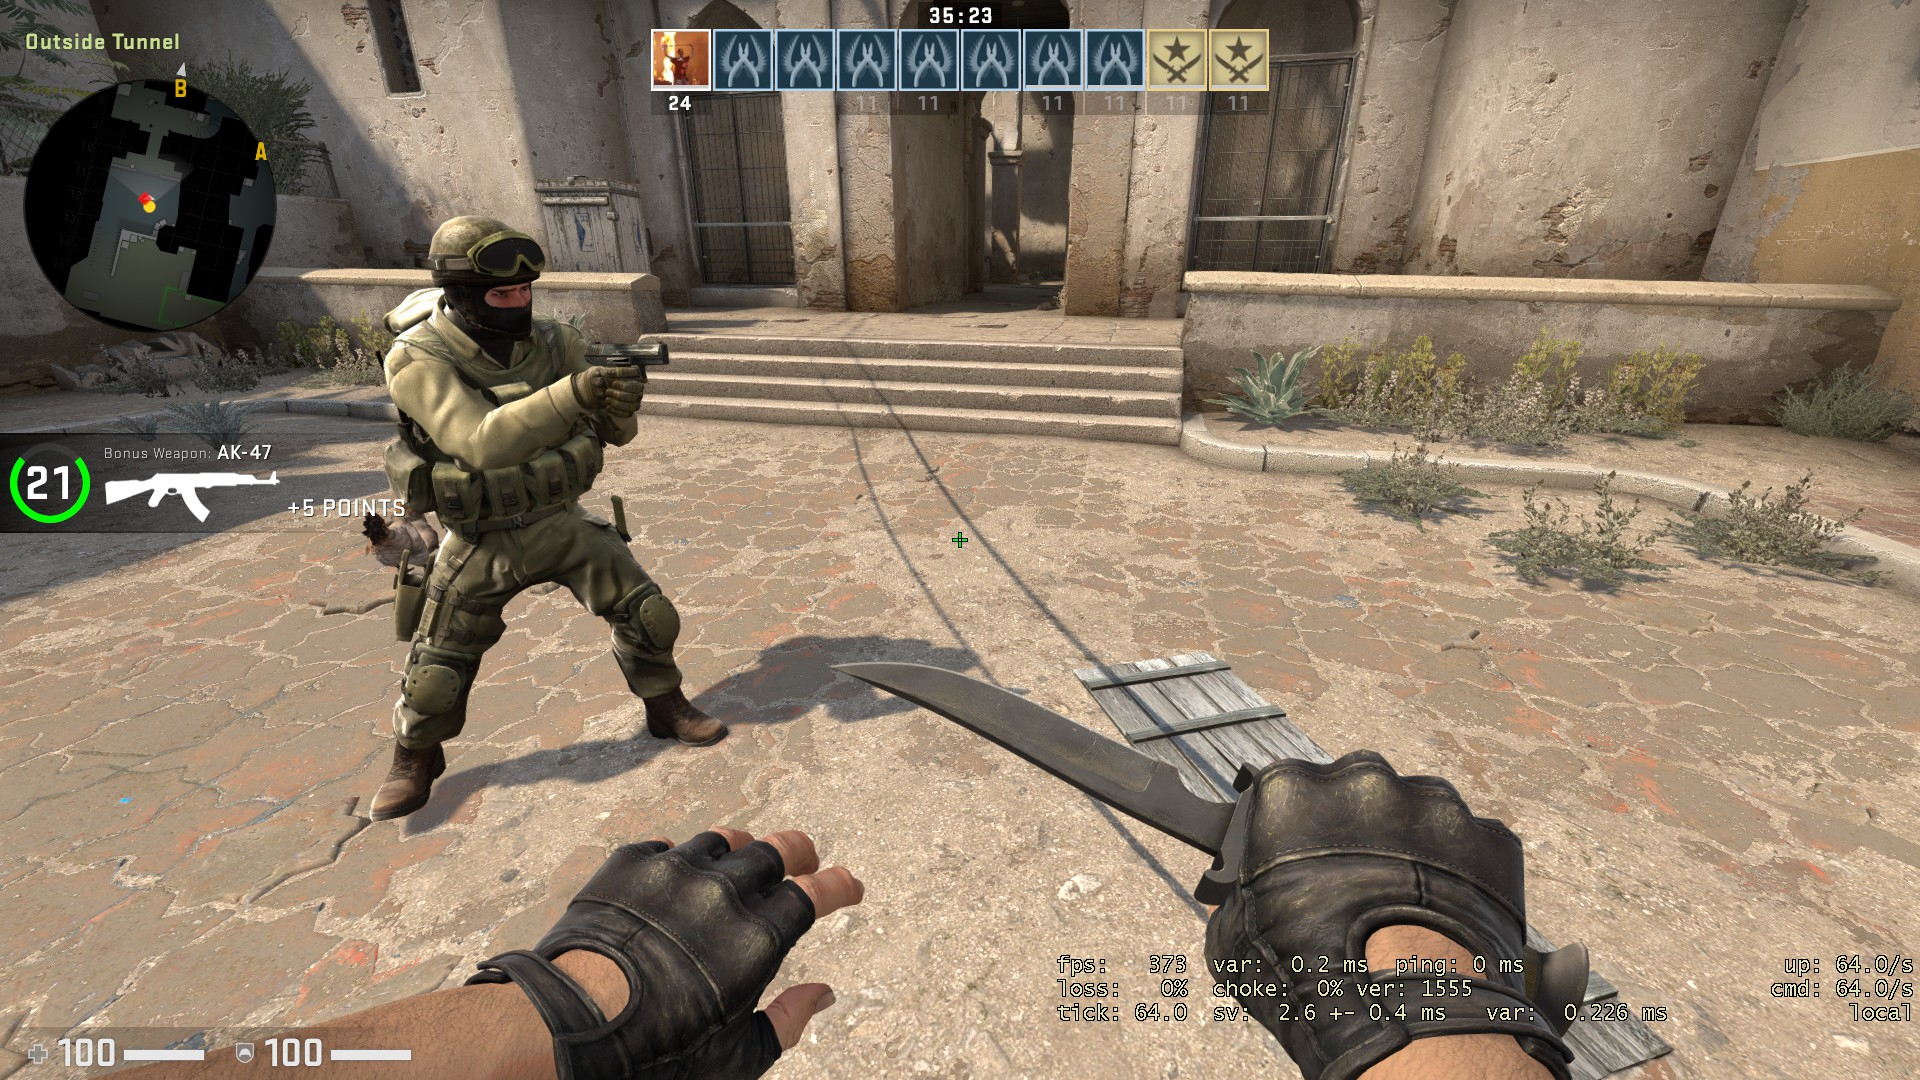player: (348, 203, 733, 834)
